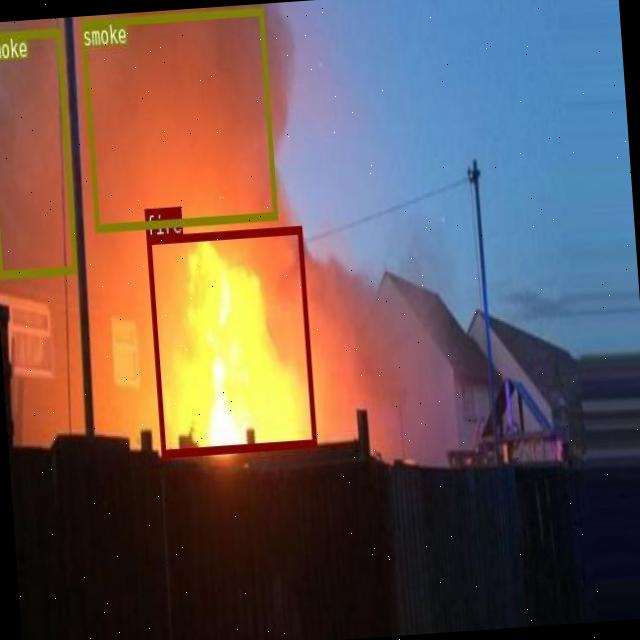fire: (146, 224, 316, 456)
smoke: (80, 7, 276, 230), (0, 26, 76, 277)
